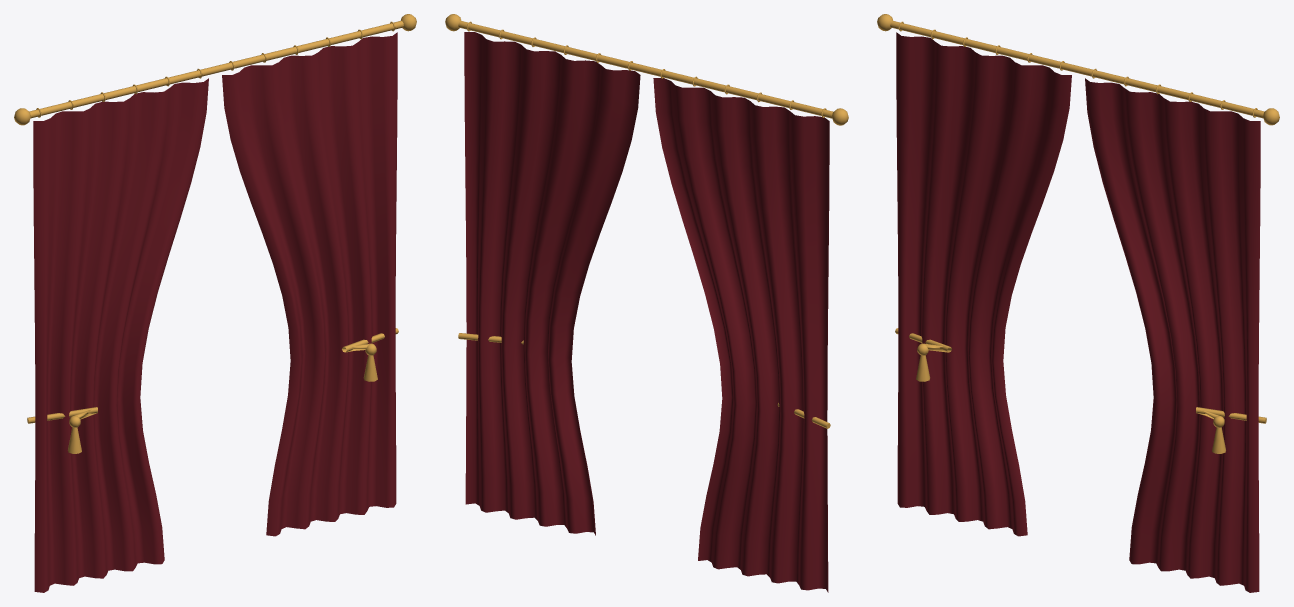
Rendered from curtains.glb.
The picture shows the model from 3 angles, left to right: view 1: azimuth 30°, elevation 25°; view 2: azimuth 150°, elevation 25°; view 3: azimuth 330°, elevation 25°; orthographic projection.
Visible parts, largest first — view 1: Curtains; view 2: Curtains; view 3: Curtains.
Part boxes in pixels (<box>): Curtains: <box>14,14,416,592</box>; Curtains: <box>445,14,848,592</box>; Curtains: <box>877,14,1279,592</box>.
Bounding box in the file's own units: 3.73 × 4.33 × 0.2543.
